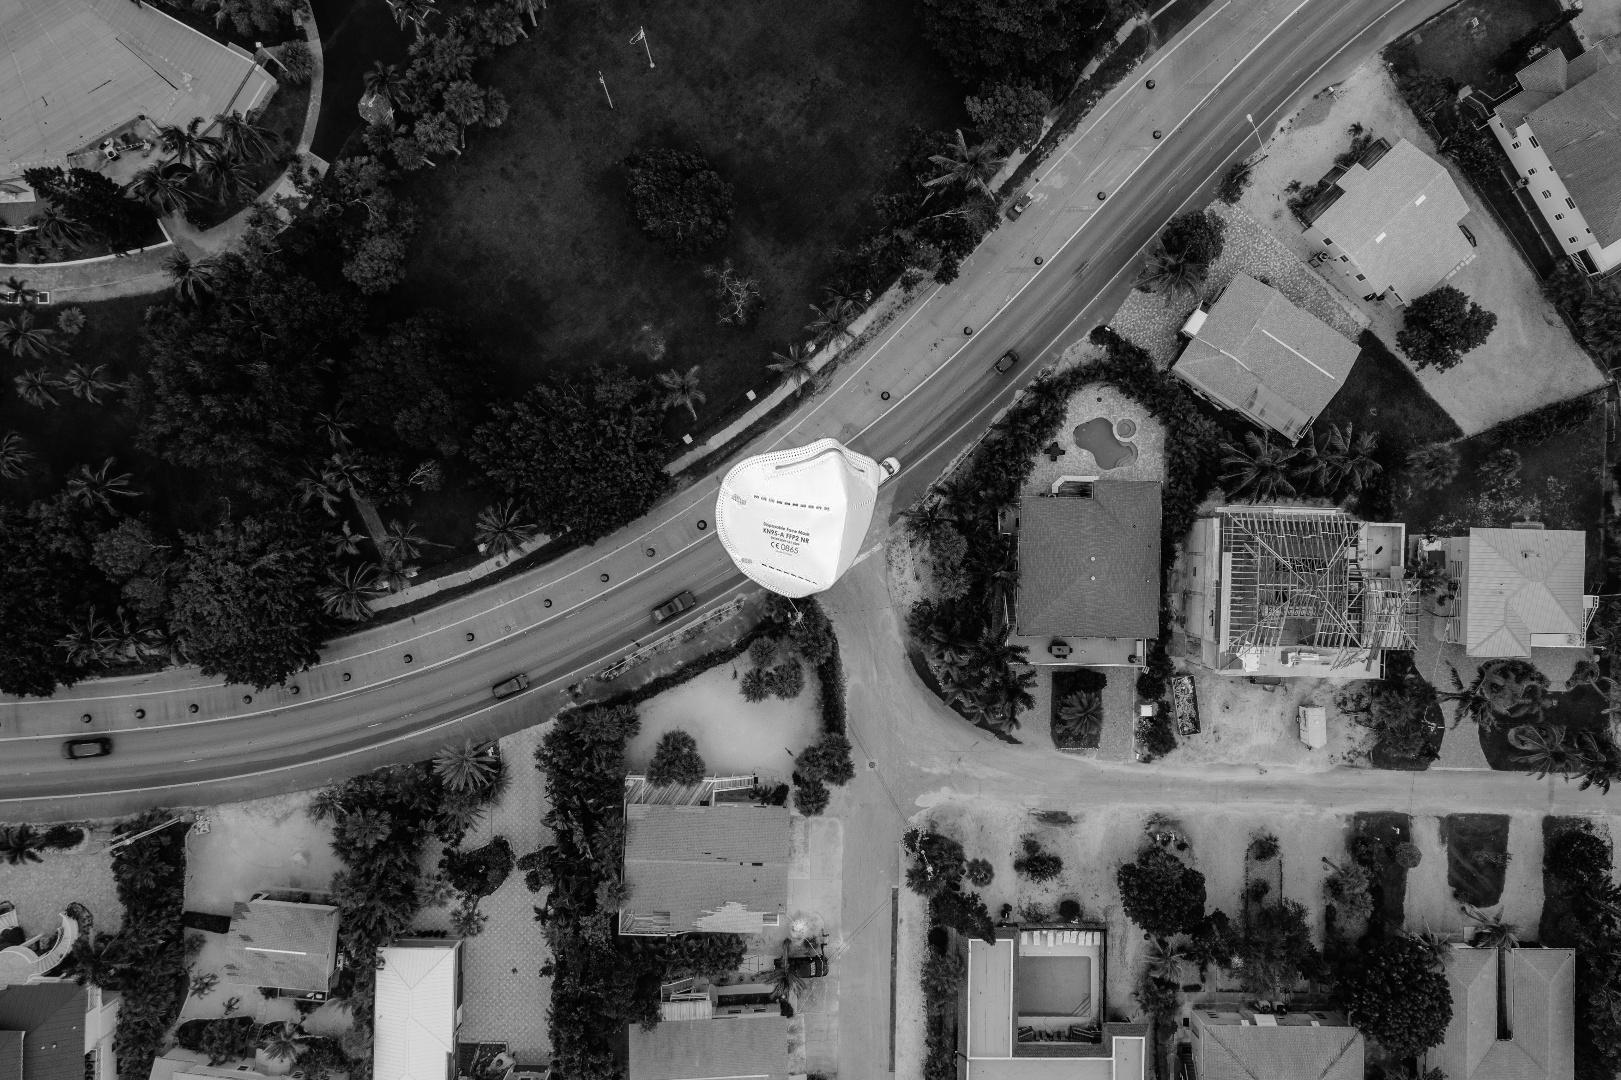trash: (659, 406, 883, 601)
